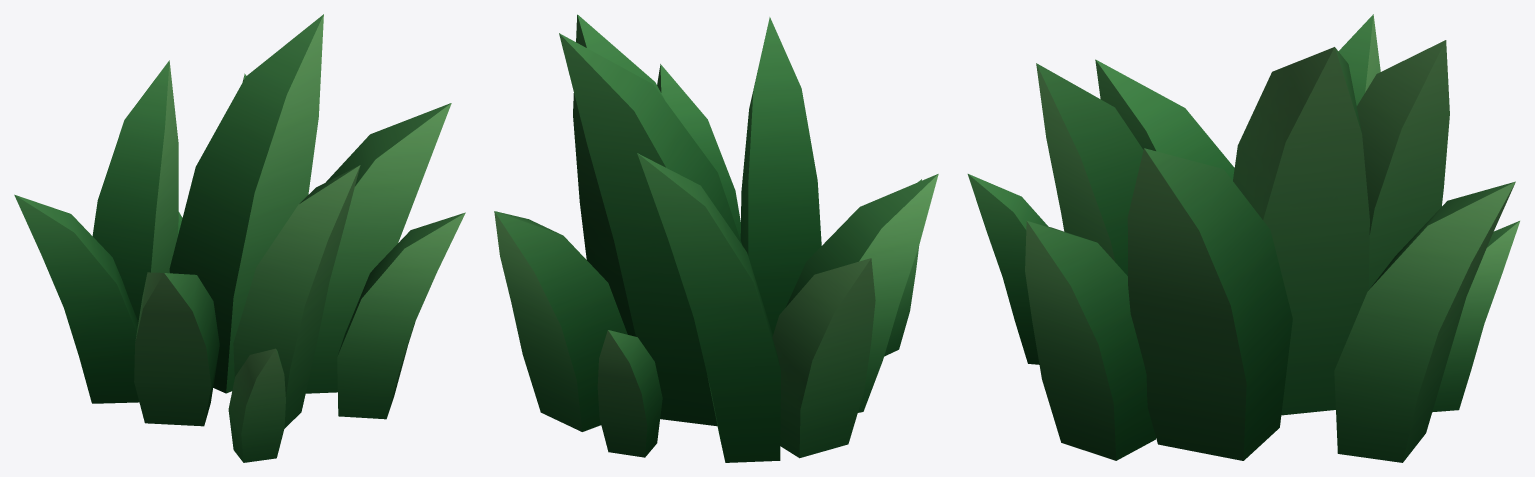
The model's file is m_deco_grass.FBX.
3 renders of one model, left to right at view 1: azimuth 30°, elevation 25°; view 2: azimuth 150°, elevation 25°; view 3: azimuth 270°, elevation 25°, orthographic. The views are drawn at different scales.
Visible parts, largest first — view 1: m_deco_grass; view 2: m_deco_grass; view 3: m_deco_grass.
Part boxes in pixels (bbox=[...]): m_deco_grass: bbox=[14, 14, 465, 462]; m_deco_grass: bbox=[494, 14, 938, 462]; m_deco_grass: bbox=[967, 14, 1519, 462].
Size of the model in its own units: 1.83 by 1.59 by 1.89.
